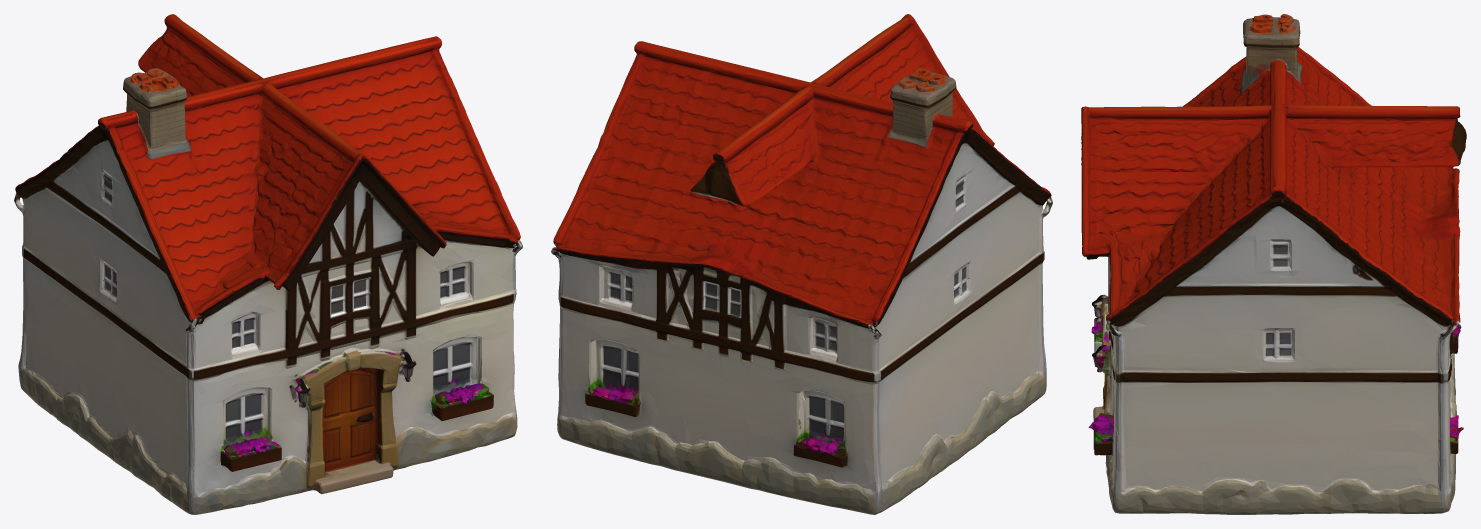
File: cottage.glb
3 views of the same model, side by side, from view 1: azimuth 30°, elevation 25°; view 2: azimuth 150°, elevation 25°; view 3: azimuth 270°, elevation 25° (orthographic). The views are drawn at different scales.
Parts seen in each view (by area): view 1: textured_mesh.obj; view 2: textured_mesh.obj; view 3: textured_mesh.obj.
Part boxes in pixels (box(x1,y1,x2,y2)): textured_mesh.obj: box(14, 14, 522, 514); textured_mesh.obj: box(551, 14, 1052, 514); textured_mesh.obj: box(1081, 14, 1466, 514).
Bounding box in the file's own units: 1.91 × 1.99 × 1.93.
1 material, 1 textured.
